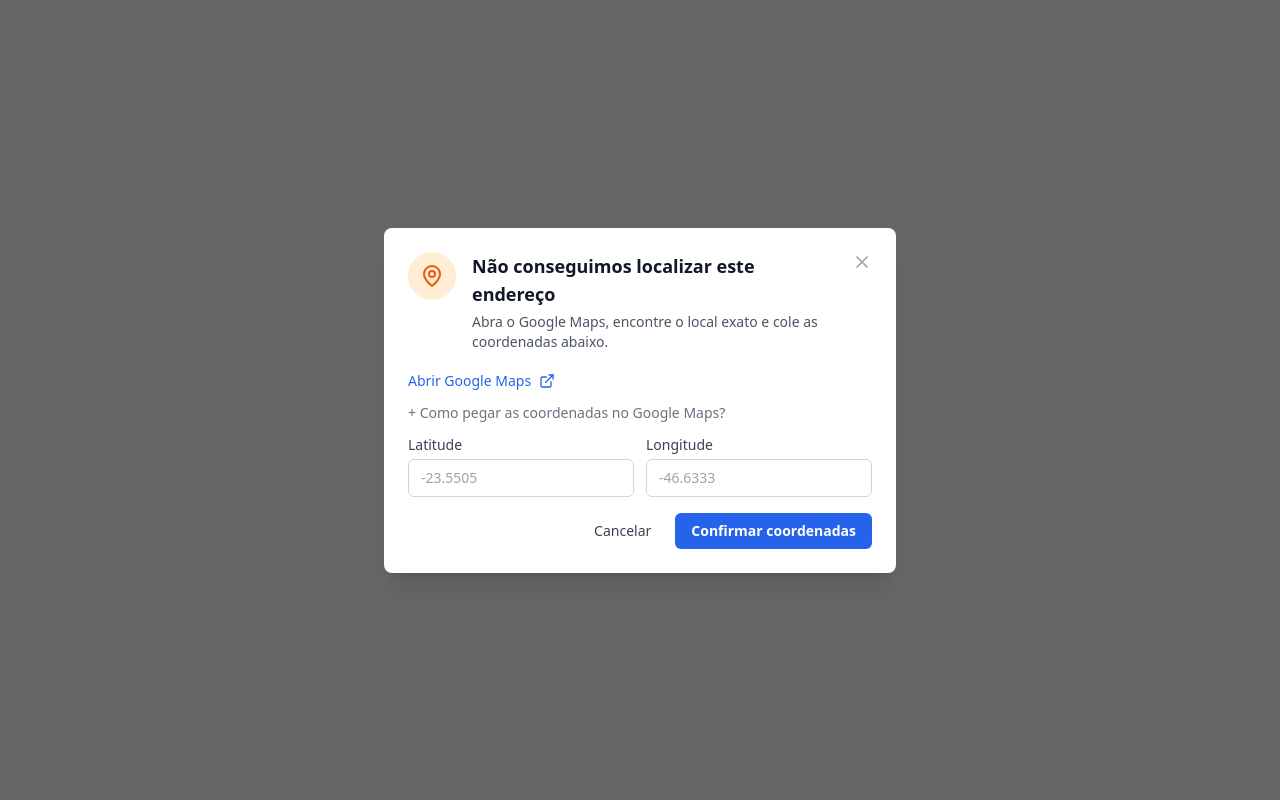
ManualCoordinatesModal › mostra erro quando latitude não é número
Type "abc" into the field with placeholder "-23.5505". click: (521,478)
box: [408,458,634,496]
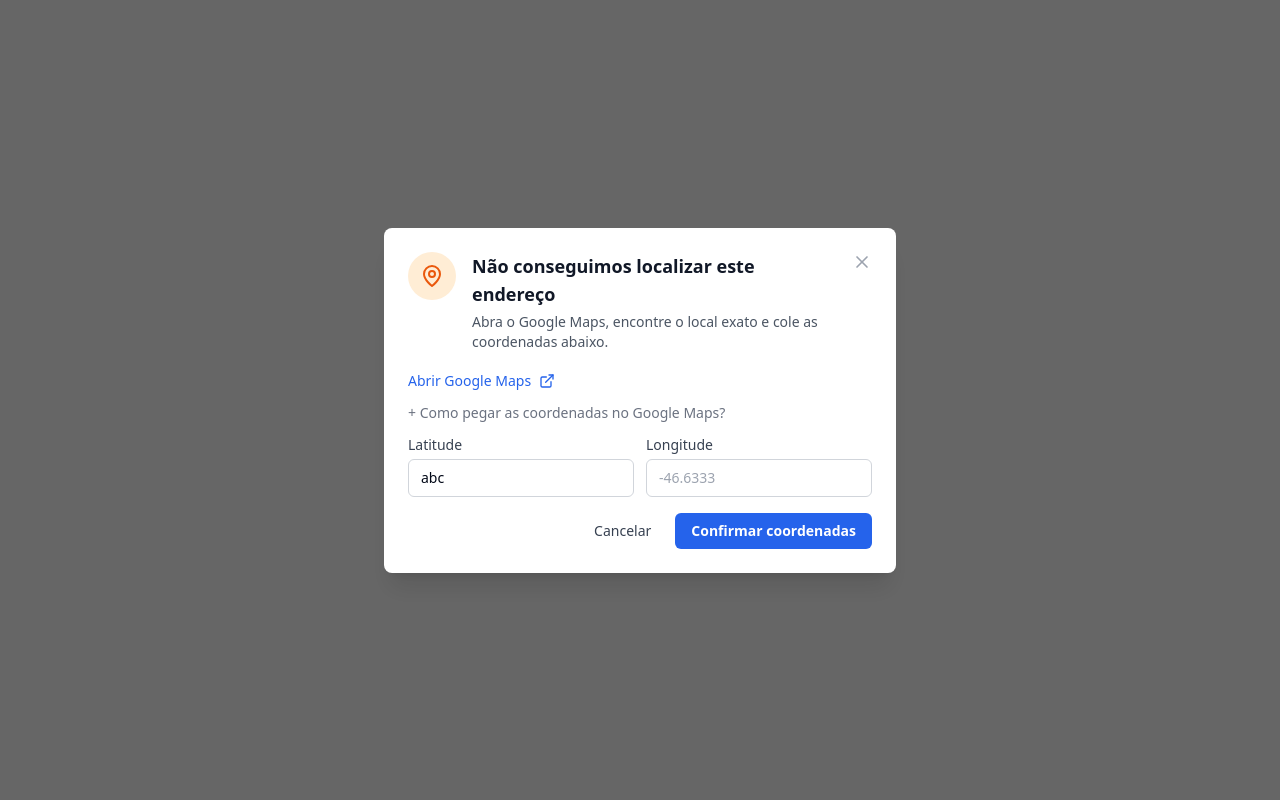
Type "-46.6" into the field with placeholder "-46.6333". click: (759,478)
box: [646,458,872,496]
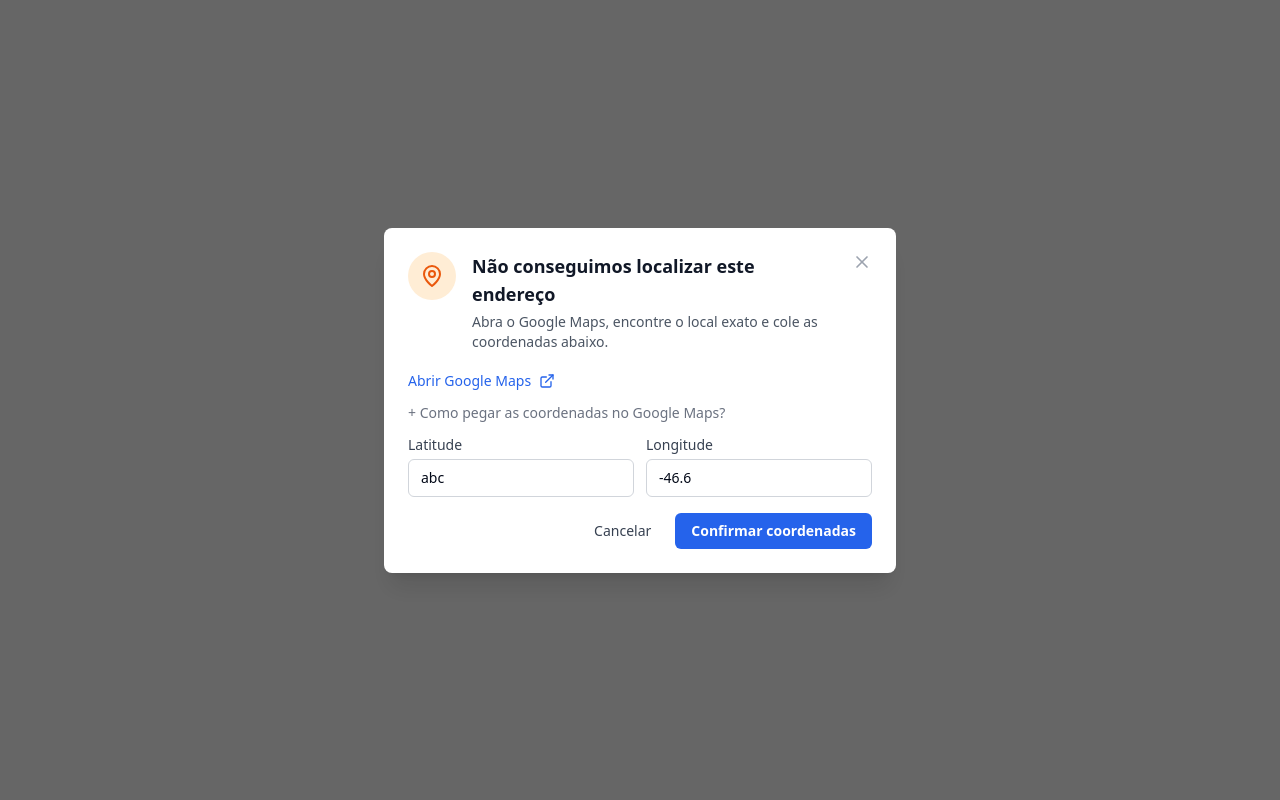
Click the button "Confirmar coordenadas". click: (774,530)
box: [675,512,872,548]
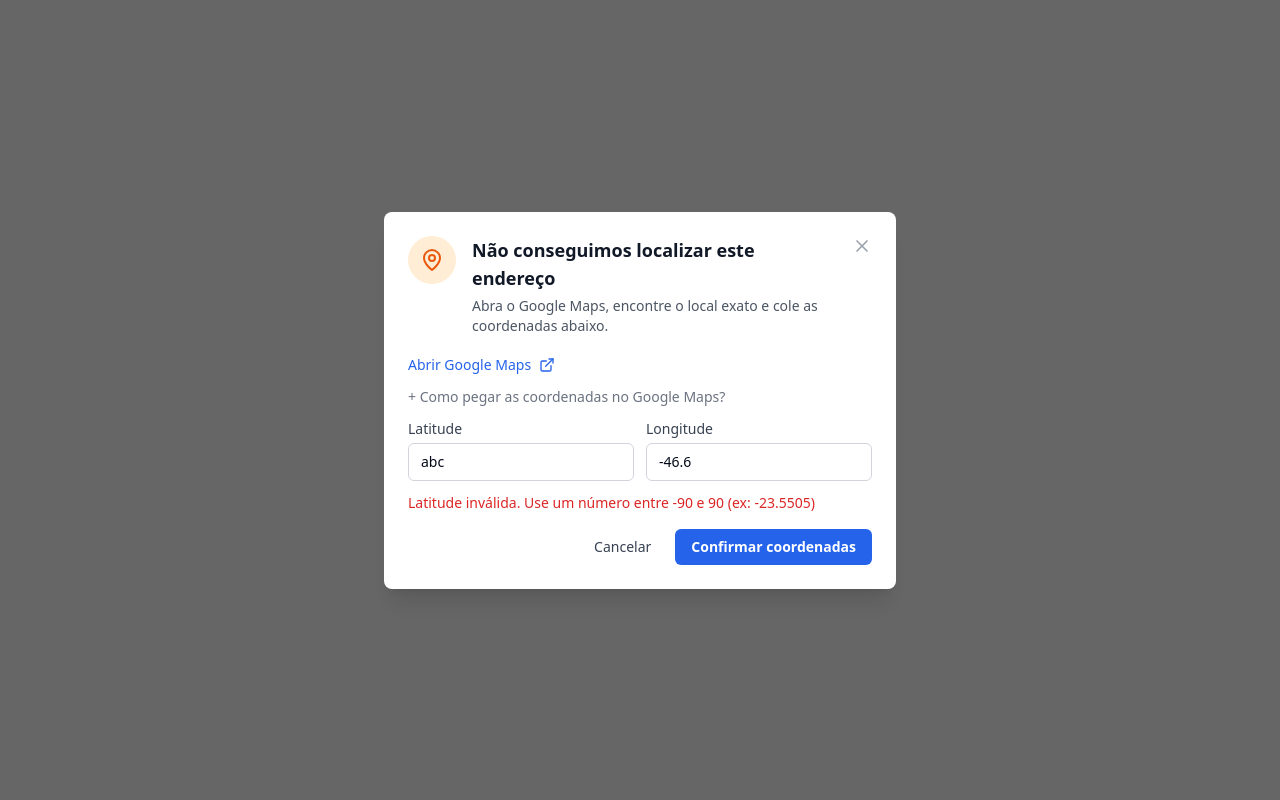
Check: the message shows "Latitude inválida", box [408,492,815,512]
